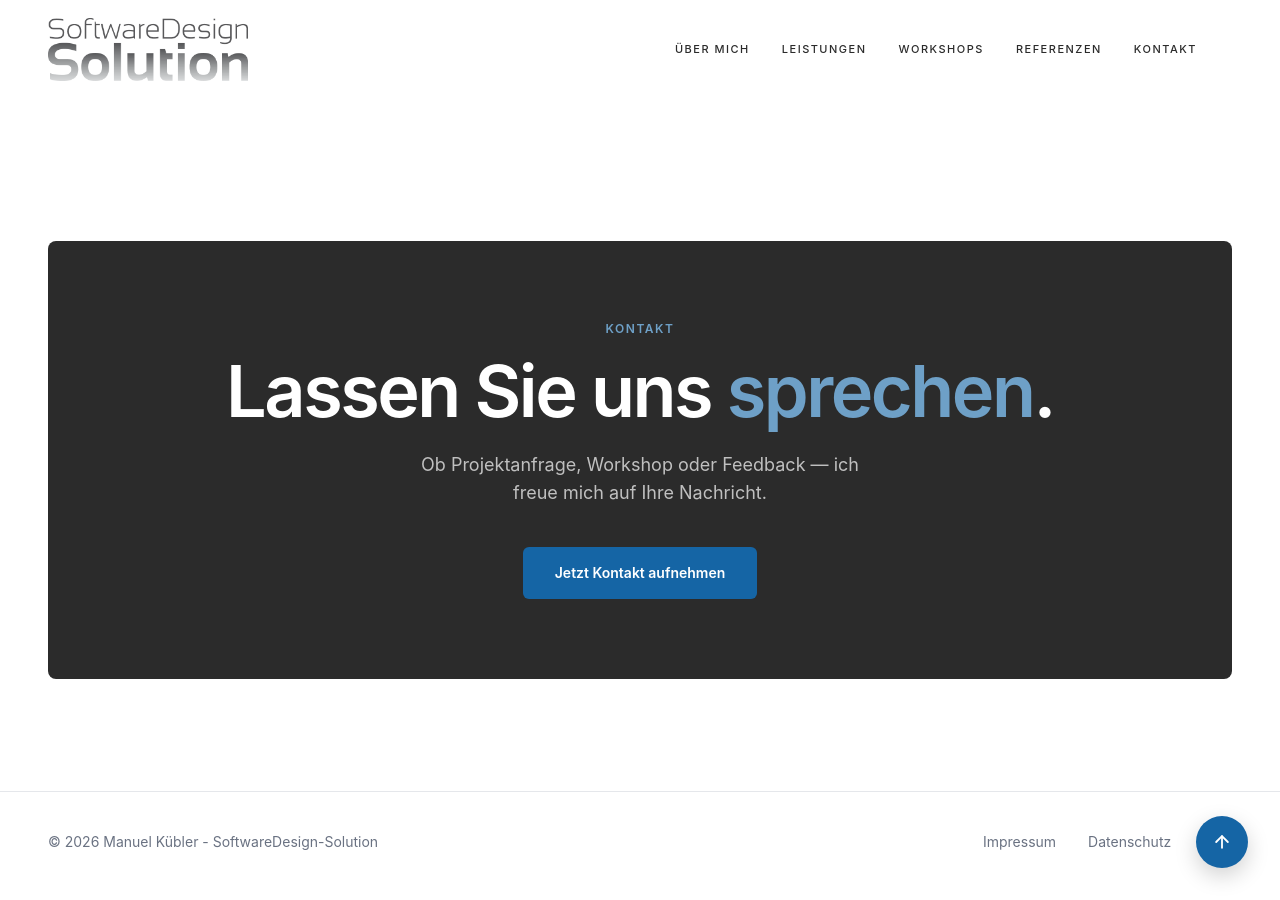
Scenario: Navigation & MobileMenu › Desktop-Navigation › ein Klick auf "Impressum" im Footer navigiert zur Impressum-Seite
This screenshot has width=1280, height=900.
(page scrolled)
Click the link "Impressum": (1020, 842) [983,832,1056,852]
(page scrolled)
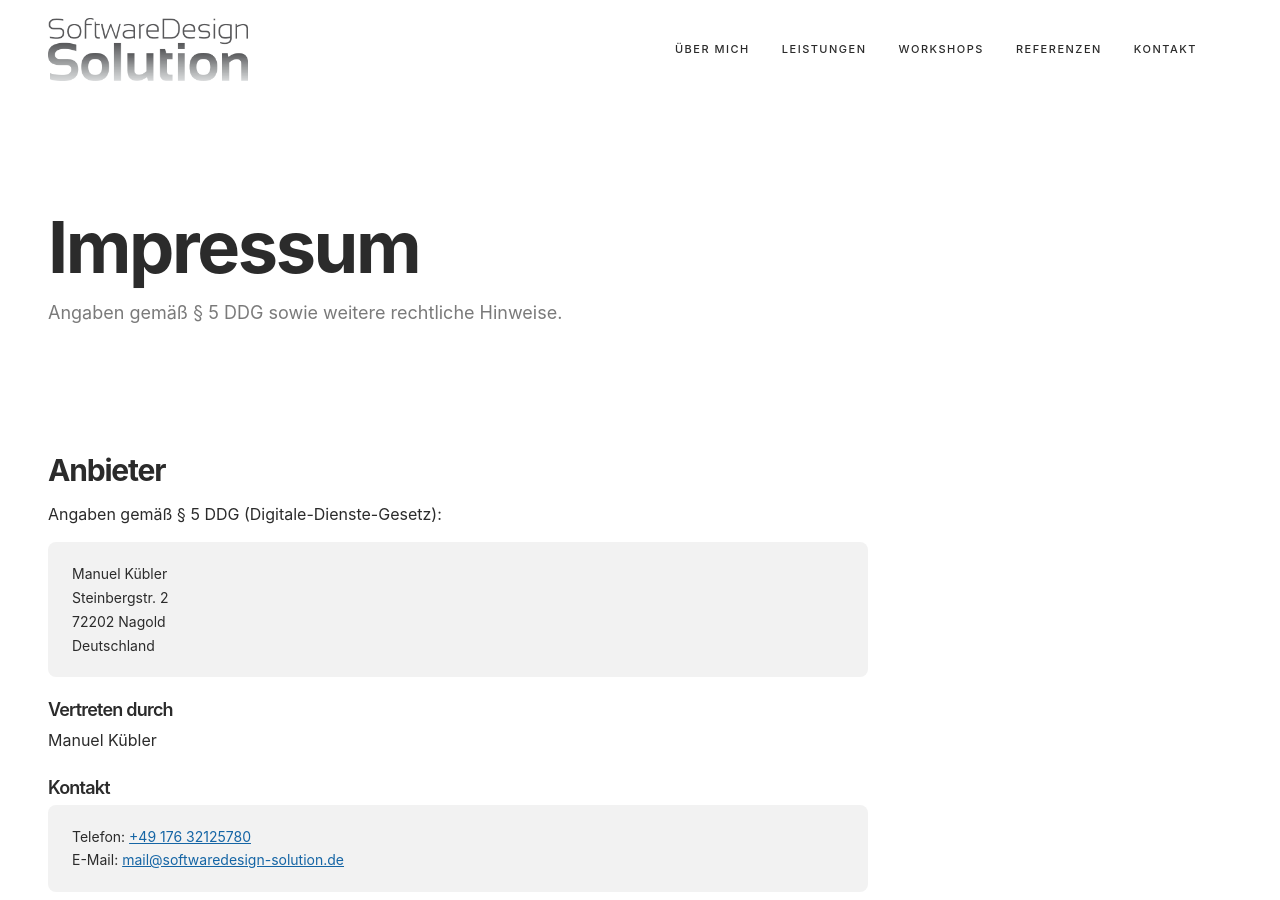
Result: the heading "Impressum" is shown at [48,203,419,290]
